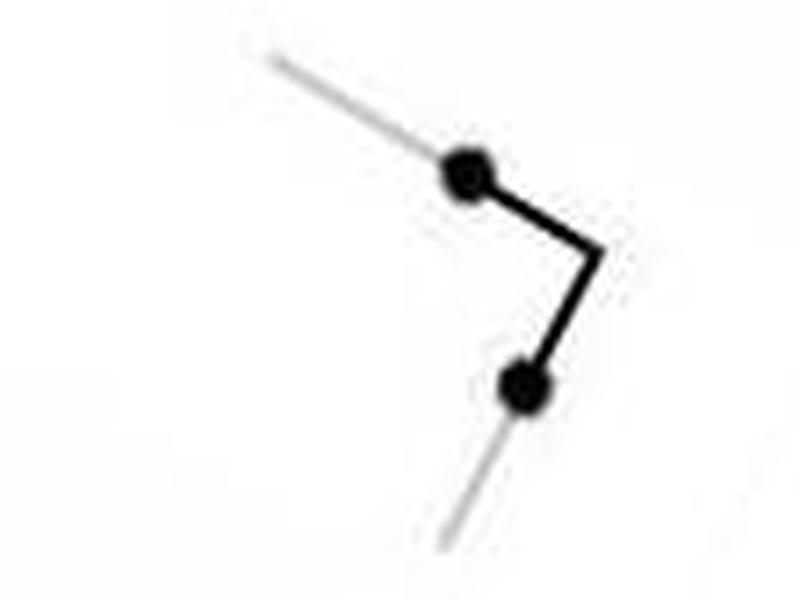butt_weld_90: (188, 48, 645, 532)
